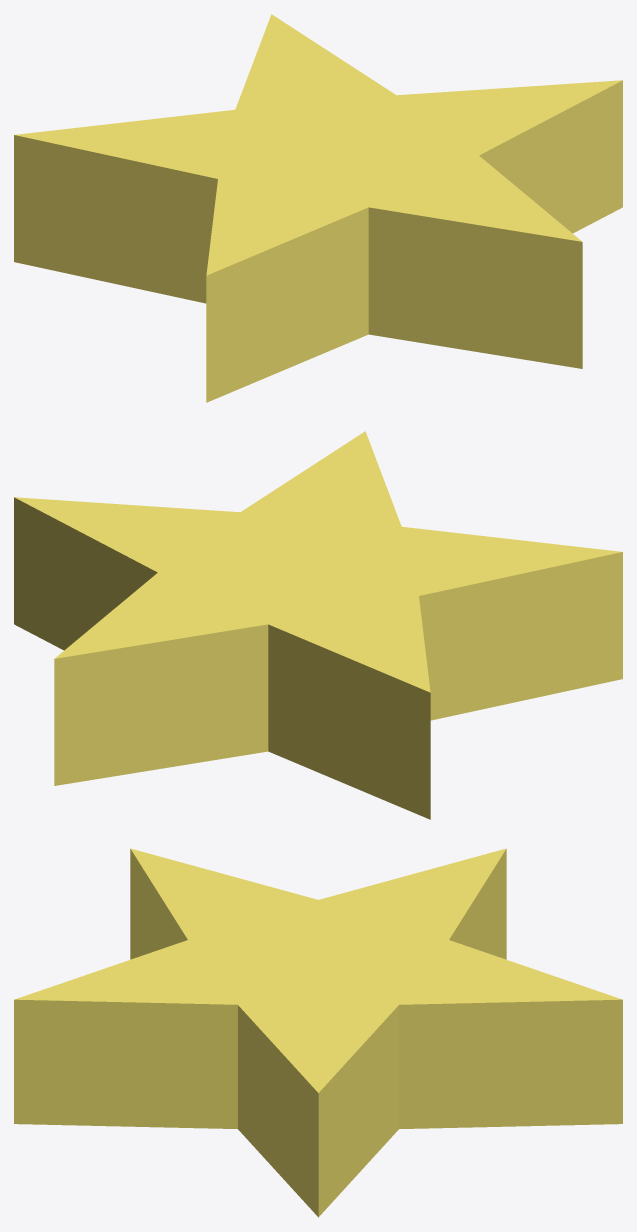
The model's file is star.glb.
3 views of the same model, one above another, from view 1: azimuth 30°, elevation 25°; view 2: azimuth 150°, elevation 25°; view 3: azimuth 270°, elevation 25° (orthographic). The views are drawn at different scales.
Bounding box in the file's own units: 25.33 × 6 × 26.63.
